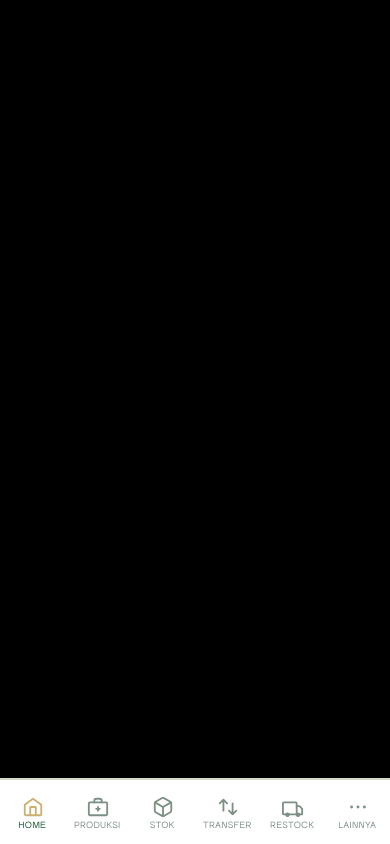
Scenario: AdminBottomNav — redesign 2026-08 (5 item utama + Lainnya) › tab Lainnya › klik Lainnya membuka sheet berisi Buku, Pelanggan, Analytics, Riwayat
Expected: the text "Buku" is not shown
Click the button "Lainnya" at (358, 812), box [325,780,389,843]
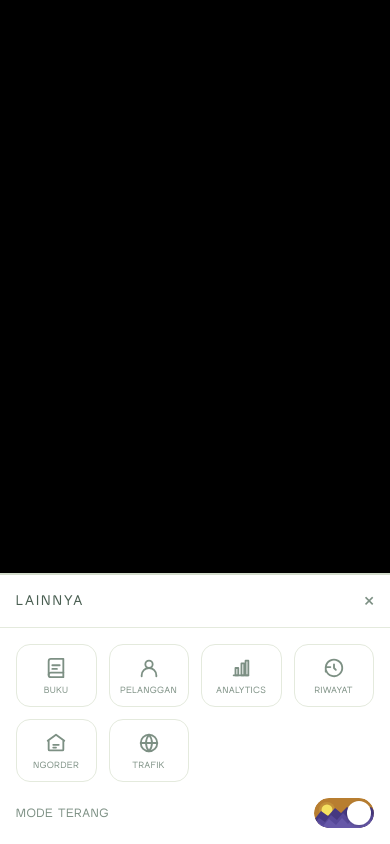
Expected: the text "Buku" is shown, [44,685,69,694]
Expected: the text "Pelanggan" is shown, [120,685,177,694]
Expected: the text "Analytics" is shown, [216,685,266,694]
